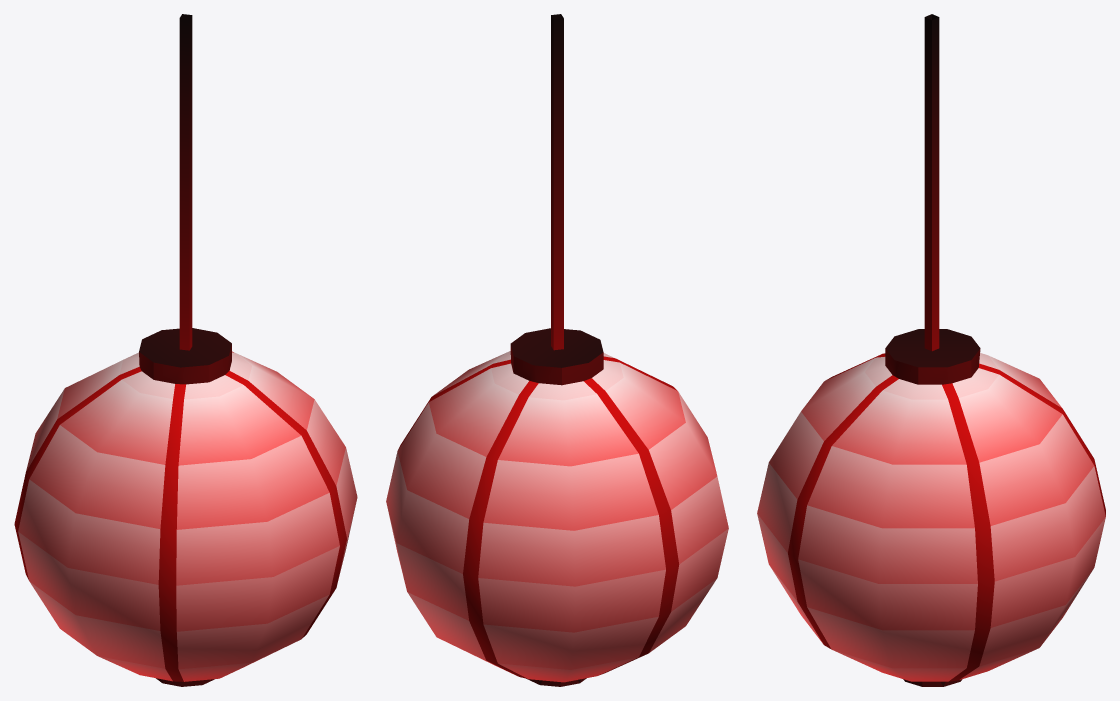
File: Lantern_A_01.FBX
The picture shows the model from 3 angles, left to right: view 1: azimuth 30°, elevation 25°; view 2: azimuth 150°, elevation 25°; view 3: azimuth 270°, elevation 25°; orthographic projection.
Visible parts, largest first — view 1: Lantern_A_01Light, Lantern_A_01; view 2: Lantern_A_01Light, Lantern_A_01; view 3: Lantern_A_01Light, Lantern_A_01.
Boxes of the visible parts, x1,y1,x2,y2 form: Lantern_A_01Light: [14, 351, 357, 681]; Lantern_A_01: [139, 14, 231, 686]; Lantern_A_01Light: [386, 351, 728, 682]; Lantern_A_01: [510, 14, 603, 686]; Lantern_A_01Light: [757, 353, 1105, 681]; Lantern_A_01: [885, 14, 980, 686].
Size of the model in its own units: 45.33 by 98.1 by 47.28.
1 material, 1 textured.
